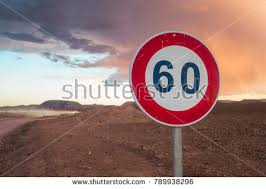Speed_limit_60km: (129, 31, 219, 125)
